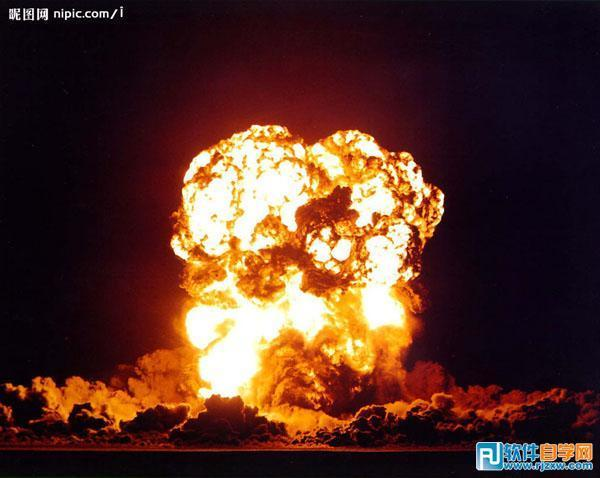fire: (169, 126, 455, 426)
